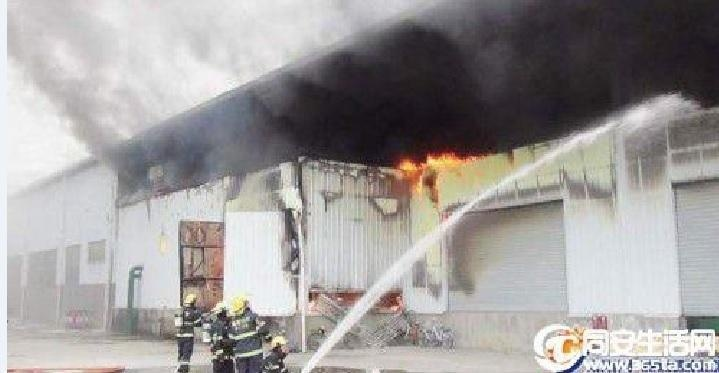fire: (398, 146, 476, 172)
